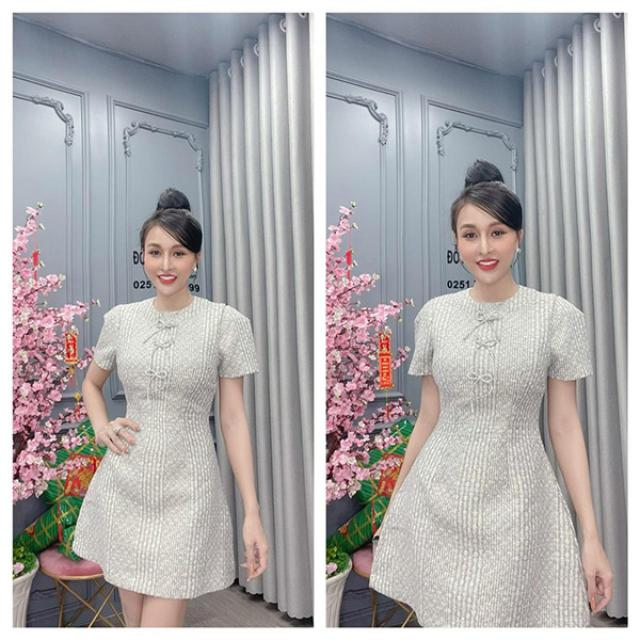clothes: (380, 282, 600, 630), (75, 294, 264, 590)
